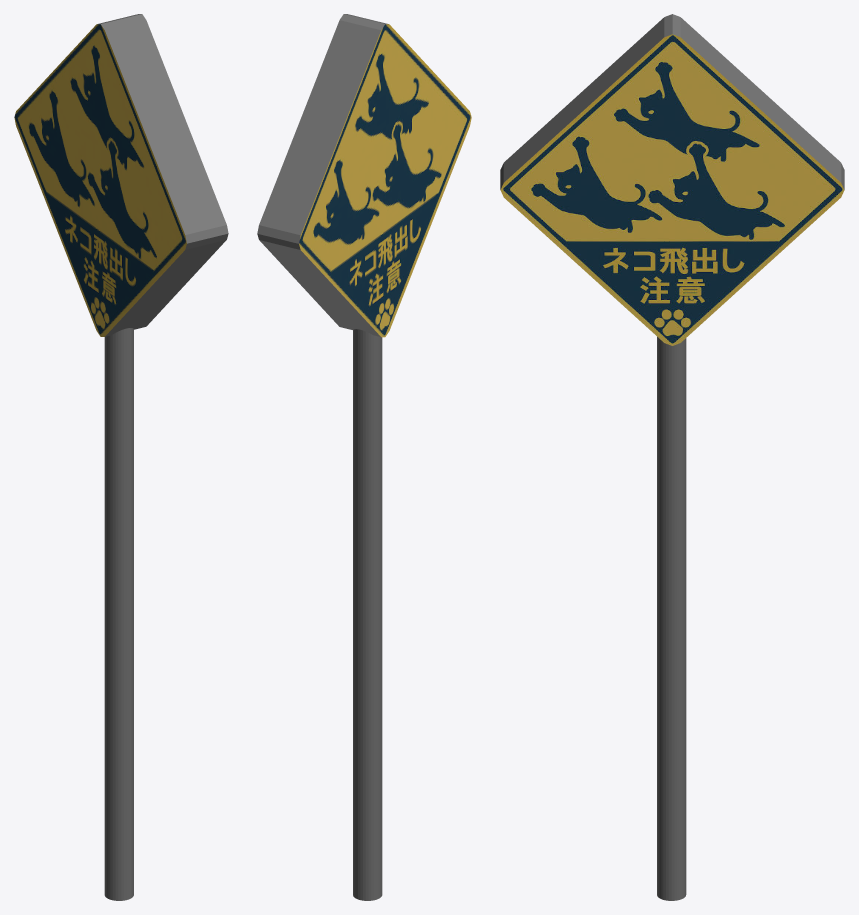
File: Sign.fbx
3 renders of one model, left to right at view 1: azimuth 30°, elevation 25°; view 2: azimuth 150°, elevation 25°; view 3: azimuth 270°, elevation 25°, orthographic.
Parts seen in each view (by area): view 1: Plane.001; view 2: Plane.001; view 3: Plane.001.
Part boxes in pixels (left/top/right/bottom): Plane.001: left=14, top=14, right=228, bottom=900; Plane.001: left=257, top=14, right=471, bottom=900; Plane.001: left=500, top=14, right=844, bottom=900.
Size of the model in its own units: 38.38 by 770 by 275.
